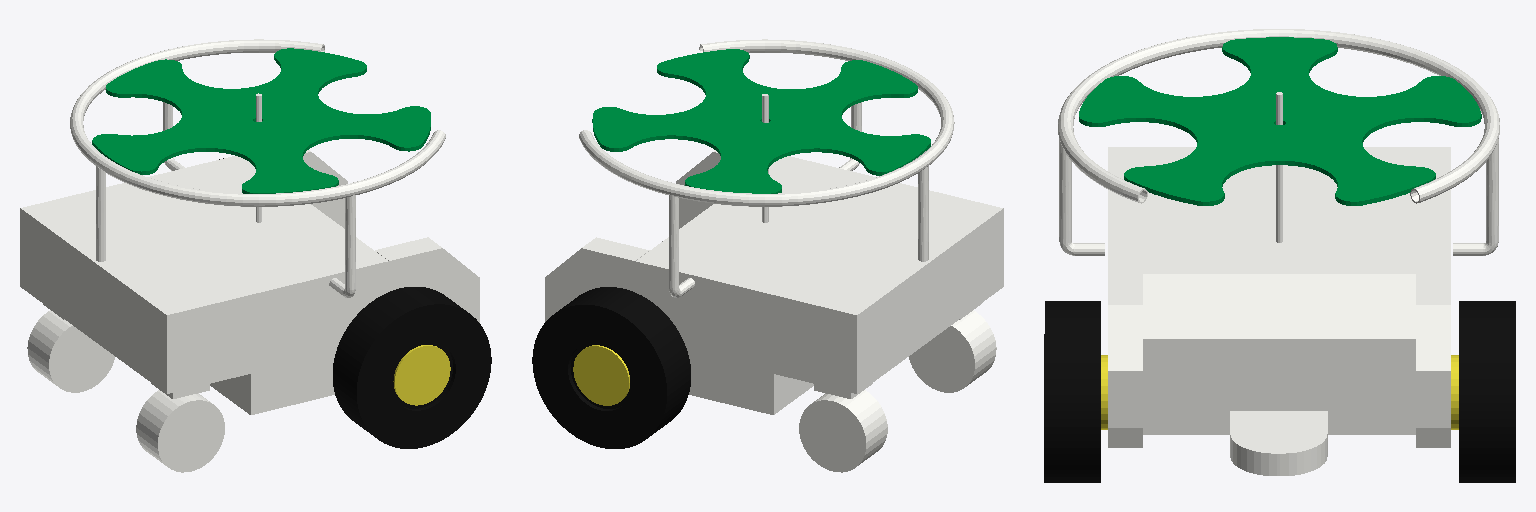
The robot description file, URDF, robot "trooper":
<?xml version="1.0"?>

<robot name="trooper">

<!-- Color materials (Compatible with Rviz but not yet with Gazebo) -->
	<material name="greenish">
		<color rgba="0 0.612 0.306 1"/>
	</material>
	 
	<material name="whiteish">
		<color rgba="1 1 0.98 1"/>
	</material>

	<material name="rubber">
		<color rgba="0.1 0.1 0.1 1"/>
	</material>


<!-- LINKS -->

<!-- CHASSIS -->  
	<link name="trooper__chassis">
    <inertial>
      <mass value="40"/>
      <origin rpy="0  0  0" xyz="0  0  0"/>
      <inertia ixx="1.0" ixy="0.0" ixz="0.0" iyy="1.0" iyz="0.0" izz="1.0"/>
    </inertial>
    <collision>
      <origin rpy="0  0  0" xyz="0    0    0"/>
      <geometry>
        <mesh filename="package://trooper/meshes/stl/chassis.stl" scale="0.01 0.01 0.01"/>
      </geometry>
    </collision>
    <visual>
      <origin rpy="0  0  0" xyz="0    0    0"/>
      <geometry>
        <mesh filename="package://trooper/meshes/stl/chassis.stl" scale="0.01 0.01 0.01"/>
      </geometry>
			<material name="whiteish"/>
    </visual>
  </link>

	<gazebo reference="trooper__chassis">
		<material>Gazebo/White</material>
	</gazebo>




<!-- DRIVE WHEEL -->

  <link name="trooper__left_wheel">
    <inertial>
      <mass value="1"/>
      <origin rpy="0  0  0" xyz="0  0  0"/>
      <inertia ixx="1.0" ixy="0.0" ixz="0.0" iyy="1.0" iyz="0.0" izz="1.0"/>
    </inertial>
    <collision>
      <origin rpy="1.5707  0  0" xyz="0  0  0"/>
      <geometry>
        <cylinder radius="0.15" length="0.1" />
      </geometry>
    </collision>
    <visual>
      <origin rpy="0  0  0" xyz="0  0  0"/>
      <geometry>
        <mesh filename="package://trooper/meshes/stl/drive_wheel.stl" scale="0.01 0.01 0.01"/>
      </geometry>
			<material name="rubber"/>
    </visual>
  </link>

	<!-- Set PID coeff for left wheel -->
	<gazebo reference="trooper__left_wheel">
		<material>Gazebo/Grey </material>
		<mu1 value="200"/>
		<mu2 value="100"/>
		<kp value="10000000.0" />
		<kd value="1.0" />
		<maxVel>0.0</maxVel>
		<minDepth>0.001</minDepth>
	</gazebo>


  <link name="trooper__right_wheel">
    <inertial>
      <mass value="1"/>
      <origin rpy="0  0  0" xyz="0  0  0"/>
      <inertia ixx="1.0" ixy="0.0" ixz="0.0" iyy="1.0" iyz="0.0" izz="1.0"/>
    </inertial>
    <collision>
      <origin rpy="1.5707  0  0" xyz="0  0  0"/>
      <geometry>
        <cylinder radius="0.15" length="0.1" />
      </geometry>
    </collision>
    <visual>
      <origin rpy="0  0  0" xyz="0  0  0"/>
      <geometry>
        <mesh filename="package://trooper/meshes/stl/drive_wheel.stl" scale="0.01 0.01 0.01"/>
      </geometry>
			<material name="rubber"/>
    </visual>
  </link>

	<!-- Set PID coeff for right wheel -->
	<gazebo reference="trooper__right_wheel">
		<material>Gazebo/Grey </material>
		<mu1 value="200"/>
		<mu2 value="100"/>
		<kp value="10000000.0" />
		<kd value="1.0" />
		<maxVel>0.0</maxVel>
		<minDepth>0.001</minDepth>
	</gazebo>


  <link name="trooper__rim">
    <origin rpy="0.0 0.0 0.0" xyz="0.0 0.0 0.0" />
    <visual>
      <geometry>
        <cylinder radius="0.06" length="0.74" />
      </geometry>
    </visual>
  </link>

	<gazebo reference="trooper__rim">
		<material>Gazebo/Red</material>
	</gazebo>





<!-- PLATFORM -->
  <link name="trooper__platform">
    <inertial>
      <mass value="10"/>
      <origin rpy="0  0  0" xyz="0  0  0"/>
      <inertia ixx="1.0" ixy="0.0" ixz="0.0" iyy="1.0" iyz="0.0" izz="1.0"/>
    </inertial>
    <collision>
      <origin rpy="0  0  0" xyz="0.09  0    0"/>
      <geometry>
        <mesh filename="package://trooper/meshes/stl/platform_5x4L.stl" scale="0.01 0.01 0.01"/>
      </geometry>
    </collision>
    <visual>
      <origin rpy="0  0  0" xyz="0.09  0    0"/>
      <geometry>
        <mesh filename="package://trooper/meshes/stl/platform_5x4L.stl" scale="0.01 0.01 0.01"/>
      </geometry>
			<material name="greenish"/>
    </visual>
  </link>

	<gazebo reference="trooper__platform">
		<material>Gazebo/Green</material>
	</gazebo>




<!-- SENSORS -->
  <link name="trooper__hokuyo__link">
    <inertial>
      <mass value="0.1"/>
      <origin rpy="0  0  0" xyz="0  0  0"/>
      <inertia ixx="1" ixy="0" ixz="0" iyy="1" iyz="0" izz="1"/>
    </inertial>
    <collision>
      <origin rpy="0  0  0" xyz="0      0     -0.0145"/>
      <geometry>
        <box size="0.05 0.05 0.041"/>
      </geometry>
    </collision>
    <collision>
      <origin rpy="0  0  0" xyz="0      0      0.0205"/>
      <geometry>
        <cylinder length="0.029" radius="0.021"/>
      </geometry>
    </collision>
    <visual>
      <origin rpy="0  0  0" xyz="0  0  0"/>
      <geometry>
        <box size="0.05 0.05 0.041"/>
      </geometry>
    </visual>
  </link>




<!-- JOINTS -->  

	<joint name="trooper__left_wheel_to_chassis" type="continuous">
    <parent link="trooper__chassis"/>
    <child link="trooper__left_wheel"/>
    <origin rpy="1.5707  1.5707  1.5707" xyz="0.14  0.33  0.15"/>
    <axis xyz="0   1   0"/>
    <limit effort="50" velocity="100"/>
		<dynamics damping="0.7" friction="100" />
  </joint>

 	<joint name="trooper__right_wheel_to_chassis" type="continuous">
    <parent link="trooper__chassis"/>
    <child link="trooper__right_wheel"/>
    <origin rpy="1.5707 -1.5707  1.5707" xyz="0.14 -0.33  0.15"/>
    <axis xyz="0  -1  0"/>
    <limit effort="50" velocity="100"/>
		<dynamics damping="0.7" friction="100" />
  </joint>


	<joint name="trooper__rim_to_chassis" type="fixed">
    <parent link="trooper__chassis"/>
    <child link="trooper__rim"/>
    <origin rpy="1.5707 0 0" xyz="0.14 0 0.15"/>
    <axis xyz="0 0 0"/>
  </joint>


	<joint name="trooper__platform_to_chassis" type="continuous">
    <parent link="trooper__chassis"/>
    <child link="trooper__platform"/>
    <origin rpy="0  0  1.5707" xyz="0  0  0.55"/>
    <axis xyz="0  0  1"/>
    <limit effort="10" velocity="100"/>
  </joint>


	<joint name="trooper__hokuyo_joint" type="fixed">
    <parent link="trooper__chassis"/>
    <child link="trooper__hokuyo__link"/>
    <origin rpy="0  0  0" xyz="0.2    0     0.115"/>
    <axis xyz="0  0  0"/>
  </joint>




<!--  GAZEBO plugin for ROS Control -->
	<gazebo>
		<plugin name="gazebo_ros_control" filename="libgazebo_ros_control.so">
		<robotNamespace>/</robotNamespace>
		</plugin>
	</gazebo>



<!-- TRANSMISSIONS -->
  <transmission name="trooper__platform_to_chassis_trans">
    <type>transmission_interface/SimpleTransmission</type>
    <actuator name="trooper__platform_state">
      <mechanicalReduction>1</mechanicalReduction>
    </actuator>
    <joint name="trooper__platform_to_chassis">
      <hardwareInterface>PositionJointInterface</hardwareInterface>
    </joint>
  </transmission>

  <transmission name="trooper__left_wheel_to_chassis_trans">
    <type>transmission_interface/SimpleTransmission</type>
    <actuator name="trooper__left_wheel_state">
      <mechanicalReduction>1</mechanicalReduction>
    </actuator>
    <joint name="trooper__left_wheel_to_chassis">
      <hardwareInterface>VelocityJointInterface</hardwareInterface>
    </joint>
  </transmission>

  <transmission name="trooper__right_wheel_to_chassis_trans">
    <type>transmission_interface/SimpleTransmission</type>
    <actuator name="trooper__right_wheel_state">
      <mechanicalReduction>1</mechanicalReduction>
    </actuator>
    <joint name="trooper__right_wheel_to_chassis">
      <hardwareInterface>VelocityJointInterface</hardwareInterface>
    </joint>
  </transmission>




</robot>

--- What the picture shows (computed from the rendered views, not written in the file) ---
3 views of the same robot in one strip: view 1: azimuth 30°, elevation 25°; view 2: azimuth 150°, elevation 25°; view 3: azimuth 270°, elevation 25° (orthographic).
Model trooper with 6 links and 5 joints (3 continuous, 2 fixed), rooted at trooper__chassis, posed every joint at zero.
Visible links, largest first — view 1: trooper__chassis, trooper__platform, trooper__right_wheel, trooper__rim; view 2: trooper__chassis, trooper__platform, trooper__left_wheel, trooper__rim; view 3: trooper__chassis, trooper__platform, trooper__left_wheel, trooper__right_wheel, trooper__rim.
Link boxes in pixels (box(x1,y1,x2,y2)): trooper__chassis: box(20, 39, 479, 472); trooper__platform: box(92, 48, 430, 193); trooper__right_wheel: box(333, 287, 491, 448); trooper__rim: box(393, 345, 450, 405); trooper__chassis: box(545, 39, 1003, 472); trooper__platform: box(592, 49, 930, 193); trooper__left_wheel: box(532, 287, 690, 448); trooper__rim: box(573, 345, 629, 405); trooper__chassis: box(1058, 29, 1499, 475); trooper__platform: box(1079, 37, 1481, 205); trooper__left_wheel: box(1459, 301, 1515, 482); trooper__right_wheel: box(1044, 301, 1100, 482); trooper__rim: box(1101, 355, 1458, 429).
Size in the robot's own frame: 0.7174 by 0.75 by 0.6092 metres.
4 mesh visuals loaded from 3 distinct referenced files (3 binary STL).